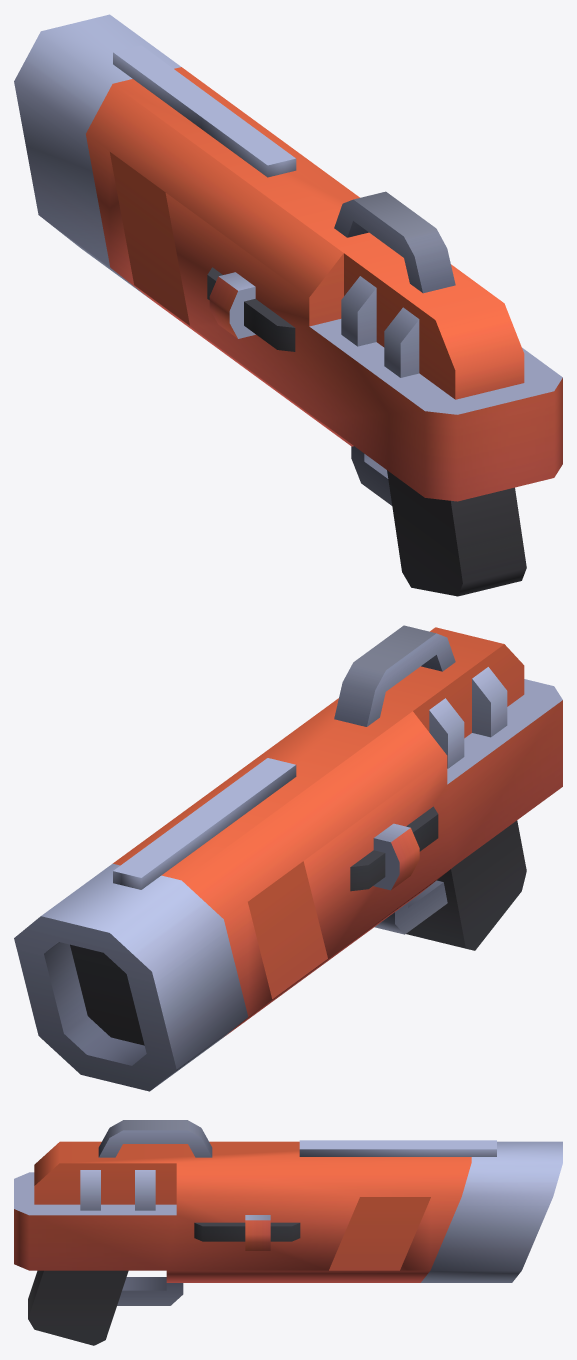
File: blaster-h.glb
3 views of the same model, one above another, from view 1: azimuth 30°, elevation 25°; view 2: azimuth 150°, elevation 25°; view 3: azimuth 270°, elevation 25° (orthographic). The views are drawn at different scales.
Parts seen in each view (by area): view 1: blaster-h; view 2: blaster-h; view 3: blaster-h.
Boxes of the visible parts, x1,y1,x2,y2 form: blaster-h: (14, 14, 562, 596); blaster-h: (14, 625, 562, 1091); blaster-h: (14, 1120, 562, 1345).
Size of the model in its own units: 0.165 by 0.2745 by 0.648.
1 material, 1 textured.
